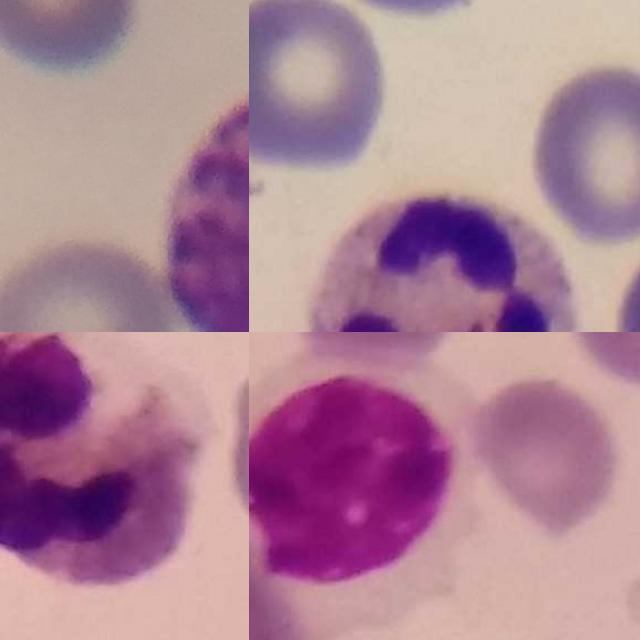Basophil: (163, 63, 249, 332)
Lymphocyte: (249, 348, 487, 640)
Neutrophil: (0, 332, 195, 585), (306, 190, 577, 332)
